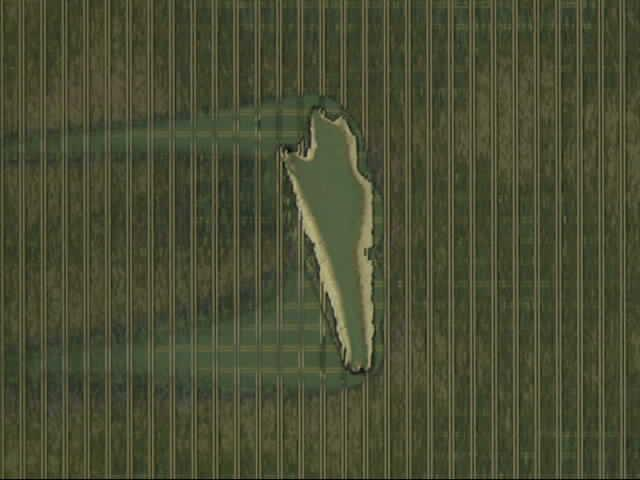BLOCK ETCH: (1, 93, 387, 406)
